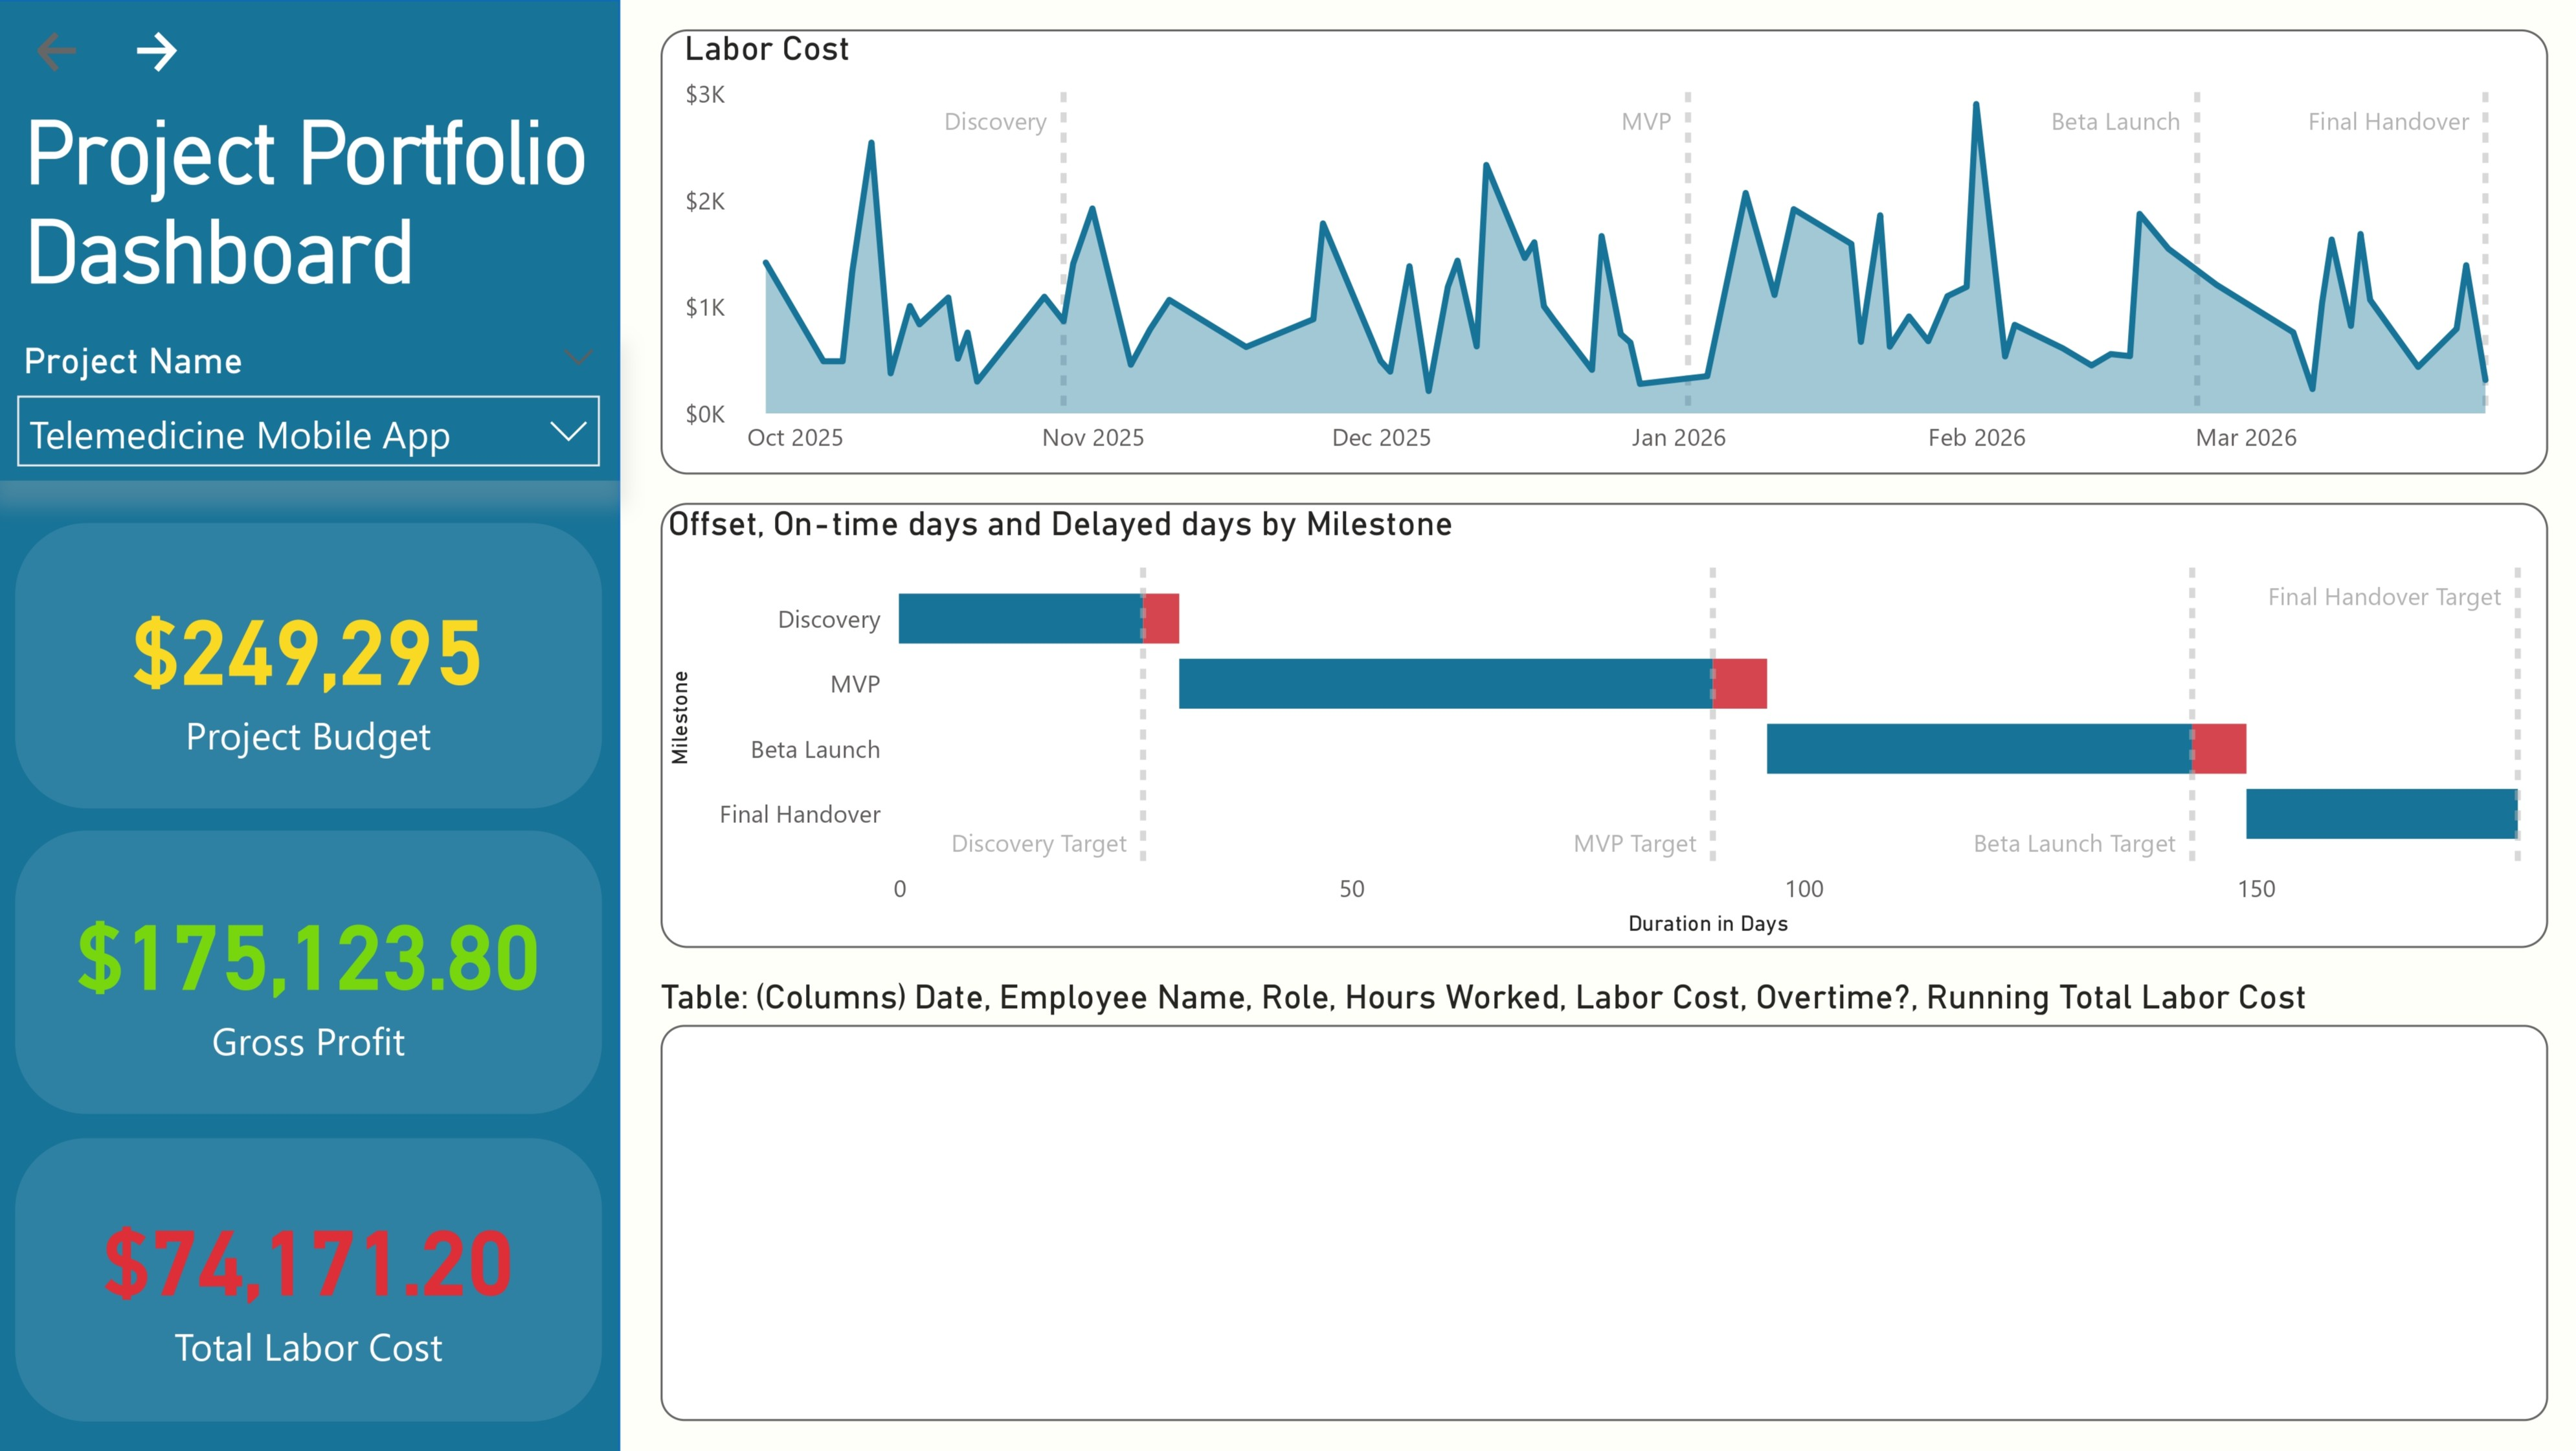

This screenshot's page, from the dashboard's own definition file:
{"tool":"powerbi","page":{"name":"PPM Dashboard","canvas":[1280,720],"ordinal":0},"visuals":[{"type":"shape","title":"Project Cost  - Line Chart with Running Est. Cost","box":[326.2,17.5,933.8,220],"z":0},{"type":"shape","box":[0,0,307.5,720],"z":1000},{"type":"shape","box":[8.8,411.2,290,140],"z":2000},{"type":"shape","title":"Gantt Chart - 4 phases (Discovery, MVP, Beta Launch, Final Handover) dynamic, serves ","box":[327.5,248.8,933.8,220],"z":3000},{"type":"shape","title":"Table: (Columns) Date, Employee Name, Role, Hours Worked, Labor Cost, Overtime?, Running Total Labor Cost","box":[327.5,482.5,933.8,220],"z":4000},{"type":"textbox","box":[8.8,46.2,298.8,116.2],"z":5000},{"type":"actionButton","box":[8.8,6.2,45,40],"z":6000},{"type":"actionButton","box":[53.8,6.2,71.2,40],"z":7000},{"type":"slicer","fields":{"Values":["vw_ProjectDetails_clean.ProjectName"]},"box":[0,162.5,307.5,75],"z":8000},{"type":"shape","box":[8.8,258.8,290,141.2],"z":9000},{"type":"card","fields":{"Values":["Sum(vw_ProjectDetails_clean.TotalProjectBudget)"]},"box":[8.8,267.5,290,125],"z":10000},{"type":"shape","box":[8.8,562.5,290,140],"z":11000},{"type":"card","fields":{"Values":["All Measures.Total Labor Cost"]},"box":[8.8,570,290,125],"z":12000},{"type":"card","fields":{"Values":["All Measures.Gross Profit"]},"box":[8.8,418.8,290,125],"z":13000},{"type":"lineChart","title":"Labor Cost","fields":{"Y":["Sum(vw_ProjectLaborCosts.LaborCost)"],"Category":["Dim_Calendar.Date.Variation.Date Hierarchy.Year","Dim_Calendar.Date.Variation.Date Hierarchy.Month","Dim_Calendar.Date.Variation.Date Hierarchy.Day"],"Y2":["select"]},"box":[328.8,17.5,931.2,216.2],"z":14000},{"type":"barChart","title":"Project Timeline","fields":{"Category":["vw_ProjectMilestones_clean.MilestoneName"],"Y":["All Measures.Gantt Offset","All Measures.On-time - Gantt Duration","All Measures.Delayed - Gantt Duration"]},"box":[328.8,248.8,933.8,218.8],"z":15000},{"type":"tableEx","fields":{"Values":["vw_ProjectLaborCosts.WorkDate","vw_EmployeeDetails.Name","vw_EmployeeDetails.Role","vw_EmployeeDetails.DeptName","vw_ProjectLaborCosts.HoursWorked","vw_ProjectLaborCosts.Overtime?","vw_ProjectLaborCosts.LaborCost","select"]},"box":[326.2,482.5,933.8,220],"z":16000}]}

Visuals, with their boxes in screenshot pixels (x1, y1, x2, y2), scaled from the page's 1280x720 canvas onto the 2576x1451 screenshot:
"Project Cost  - Line Chart with Running Est. Cost" shape: [x1=656, y1=35, x2=2536, y2=478]
shape: [x1=0, y1=0, x2=619, y2=1450]
shape: [x1=17, y1=829, x2=601, y2=1111]
"Gantt Chart - 4 phases (Discovery, MVP, Beta Launch, Final Handover) dynamic, serves " shape: [x1=659, y1=501, x2=2538, y2=945]
"Table: (Columns) Date, Employee Name, Role, Hours Worked, Labor Cost, Overtime?, Running Total Labor Cost" shape: [x1=659, y1=973, x2=2538, y2=1416]
textbox: [x1=17, y1=93, x2=619, y2=327]
actionButton: [x1=17, y1=12, x2=108, y2=93]
actionButton: [x1=108, y1=12, x2=252, y2=93]
slicer - vw_ProjectDetails_clean.ProjectName: [x1=0, y1=328, x2=619, y2=478]
shape: [x1=17, y1=522, x2=601, y2=806]
card - Sum(vw_ProjectDetails_clean.TotalProjectBudget): [x1=17, y1=539, x2=601, y2=791]
shape: [x1=17, y1=1134, x2=601, y2=1416]
card - All Measures.Total Labor Cost: [x1=17, y1=1149, x2=601, y2=1400]
card - All Measures.Gross Profit: [x1=17, y1=844, x2=601, y2=1096]
"Labor Cost" lineChart: [x1=662, y1=35, x2=2536, y2=471]
"Project Timeline" barChart: [x1=662, y1=501, x2=2541, y2=942]
tableEx - vw_ProjectLaborCosts.WorkDate x vw_EmployeeDetails.Name: [x1=656, y1=973, x2=2536, y2=1416]
